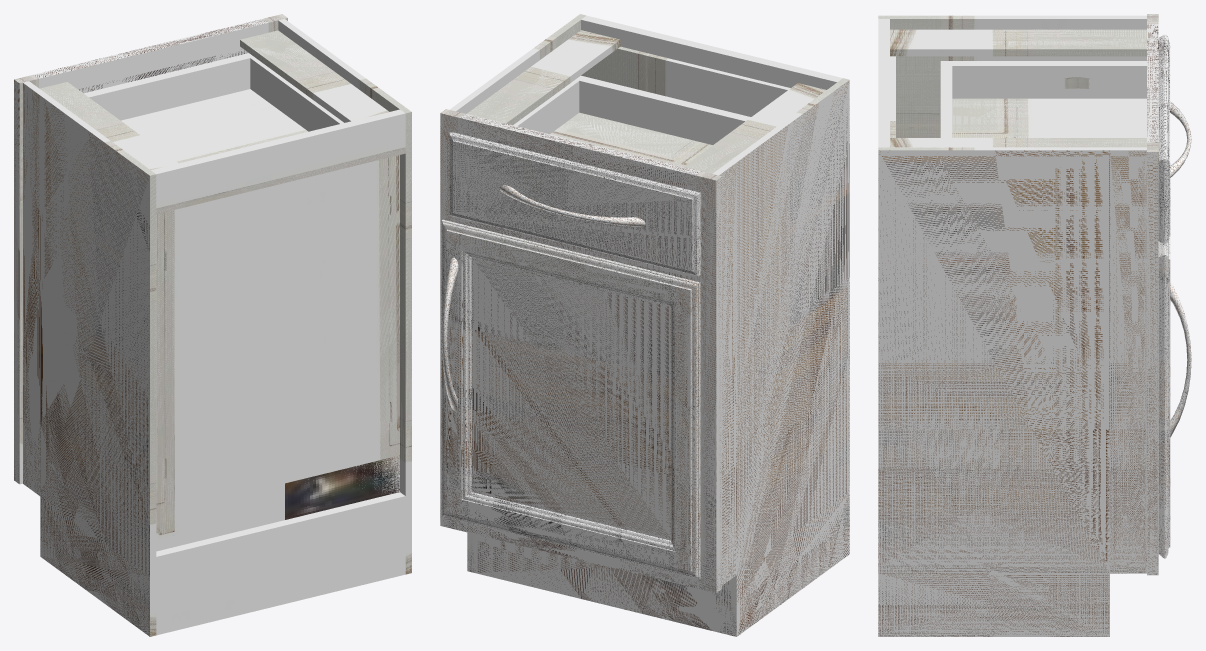
3 renders of one model, left to right at view 1: azimuth 30°, elevation 25°; view 2: azimuth 150°, elevation 25°; view 3: azimuth 270°, elevation 25°, orthographic. The views are drawn at different scales.
Visible parts, largest first — view 1: mesh5_mesh5-geometry, mesh8_mesh8-geometry, mesh13_mesh13-geometry, mesh4_mesh4-geometry, mesh20_mesh20-geometry, mesh7_mesh7-geometry, mesh9_mesh9-geometry, mesh11_mesh11-geometry, mesh18_mesh18-geometry, mesh6_mesh6-geometry, mesh15_mesh15-geometry, mesh44_mesh44-geometry (+4 smaller); view 2: mesh8_mesh8-geometry, mesh39_mesh39-geometry, mesh27_mesh27-geometry, mesh3_mesh3-geometry, mesh14_mesh14-geometry, mesh6_mesh6-geometry, mesh9_mesh9-geometry, mesh42_mesh42-geometry, mesh37_mesh37-geometry, mesh5_mesh5-geometry, mesh41_mesh41-geometry, mesh38_mesh38-geometry (+17 smaller); view 3: mesh11_mesh11-geometry, mesh10_mesh10-geometry, mesh12_mesh12-geometry, mesh8_mesh8-geometry, mesh20_mesh20-geometry, mesh16_mesh16-geometry, mesh17_mesh17-geometry, mesh3_mesh3-geometry, mesh41_mesh41-geometry, mesh15_mesh15-geometry, mesh4_mesh4-geometry, mesh28_mesh28-geometry (+9 smaller).
Part boxes in pixels (<box>): mesh5_mesh5-geometry: <box>156,155,399,551</box>; mesh8_mesh8-geometry: <box>40,94,156,576</box>; mesh13_mesh13-geometry: <box>156,492,405,635</box>; mesh4_mesh4-geometry: <box>151,109,405,214</box>; mesh20_mesh20-geometry: <box>121,89,308,163</box>; mesh7_mesh7-geometry: <box>23,81,46,495</box>; mesh9_mesh9-geometry: <box>40,497,156,636</box>; mesh11_mesh11-geometry: <box>295,31,411,514</box>; mesh18_mesh18-geometry: <box>83,54,250,120</box>; mesh6_mesh6-geometry: <box>33,19,268,89</box>; mesh15_mesh15-geometry: <box>240,30,389,122</box>; mesh44_mesh44-geometry: <box>285,455,399,519</box>; mesh8_mesh8-geometry: <box>730,78,849,574</box>; mesh39_mesh39-geometry: <box>473,260,670,537</box>; mesh27_mesh27-geometry: <box>455,142,689,269</box>; mesh3_mesh3-geometry: <box>440,109,721,592</box>; mesh14_mesh14-geometry: <box>474,534,730,635</box>; mesh6_mesh6-geometry: <box>460,114,701,588</box>; mesh9_mesh9-geometry: <box>730,493,849,636</box>; mesh42_mesh42-geometry: <box>670,308,700,545</box>; mesh37_mesh37-geometry: <box>470,489,670,571</box>; mesh5_mesh5-geometry: <box>581,46,790,116</box>; mesh41_mesh41-geometry: <box>441,253,473,489</box>; mesh38_mesh38-geometry: <box>470,227,670,307</box>; mesh11_mesh11-geometry: <box>878,147,1109,573</box>; mesh10_mesh10-geometry: <box>1110,147,1146,573</box>; mesh12_mesh12-geometry: <box>878,573,1109,636</box>; mesh8_mesh8-geometry: <box>878,15,1109,137</box>; mesh20_mesh20-geometry: <box>952,98,1146,137</box>; mesh16_mesh16-geometry: <box>890,29,1146,56</box>; mesh17_mesh17-geometry: <box>940,61,1146,98</box>; mesh3_mesh3-geometry: <box>1147,14,1158,575</box>; mesh41_mesh41-geometry: <box>1158,285,1170,524</box>; mesh15_mesh15-geometry: <box>890,138,1146,147</box>; mesh4_mesh4-geometry: <box>878,19,889,147</box>; mesh28_mesh28-geometry: <box>1158,38,1170,161</box>.
Size of the model in its own units: 0.4654 by 0.7645 by 0.446.
